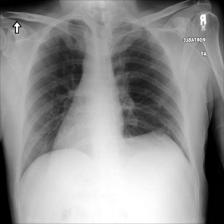normal: (17, 15, 193, 177)
